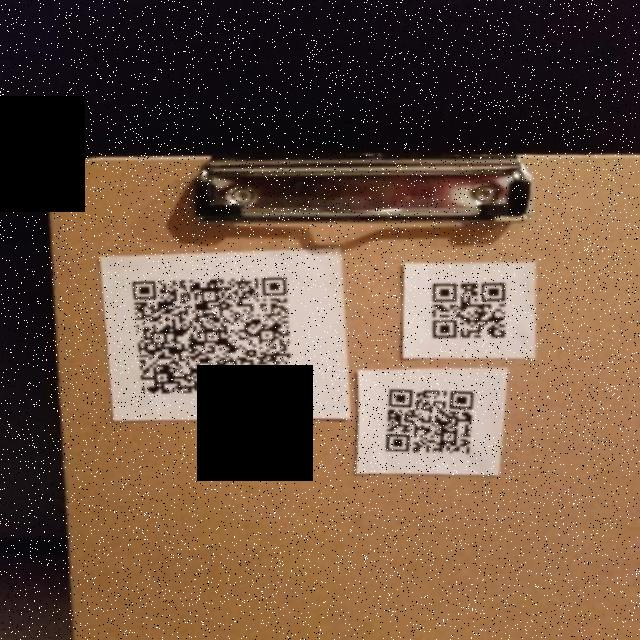QR_CODE: (120, 264, 301, 404), (375, 380, 481, 465), (418, 270, 522, 348)
